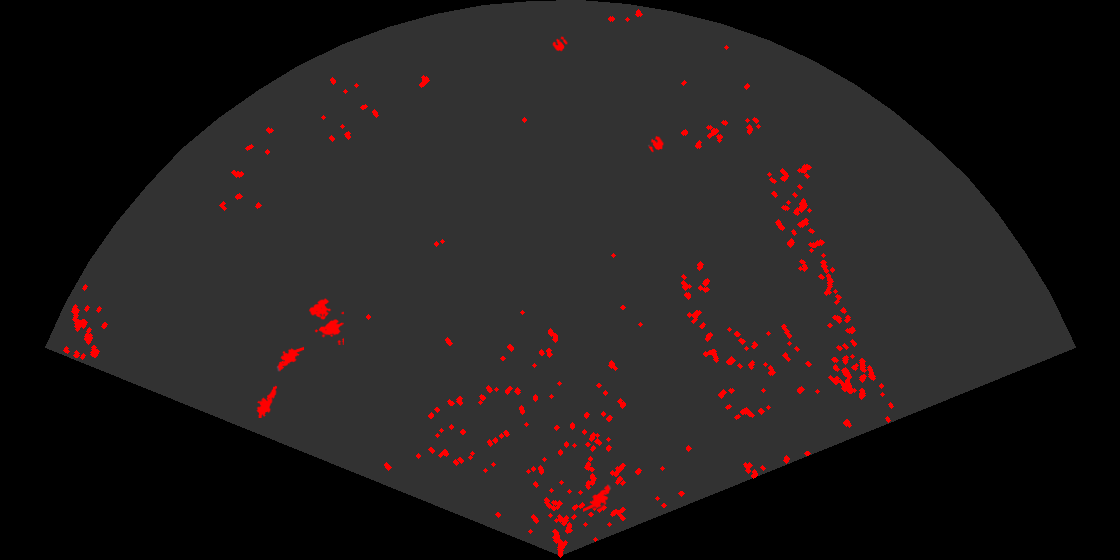ball: (647, 134, 666, 154), (551, 35, 569, 53)
cage: (307, 297, 344, 345)
frogman: (583, 483, 612, 513), (255, 383, 279, 418), (276, 345, 304, 373)
